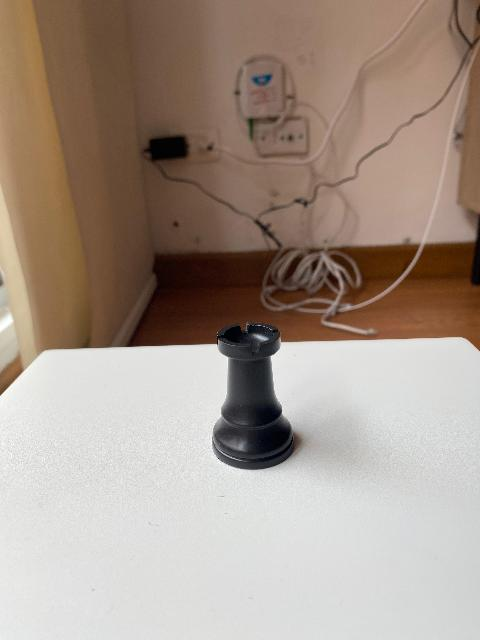black-rook: (210, 320, 296, 470)
